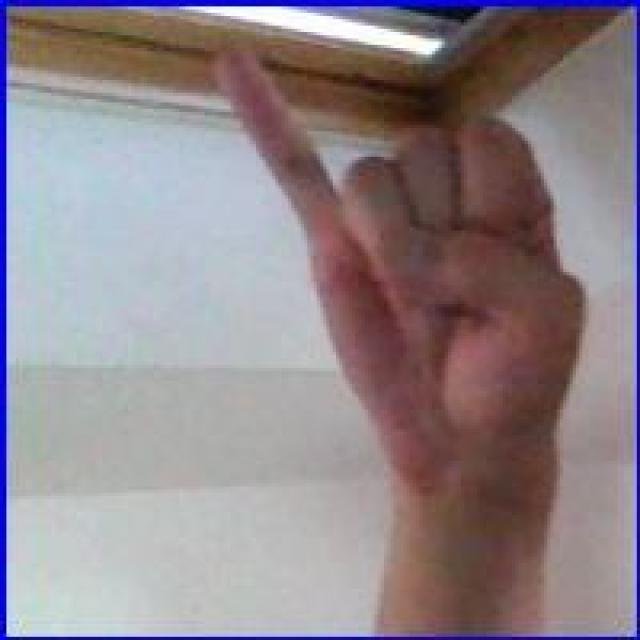I: (202, 37, 592, 504)
